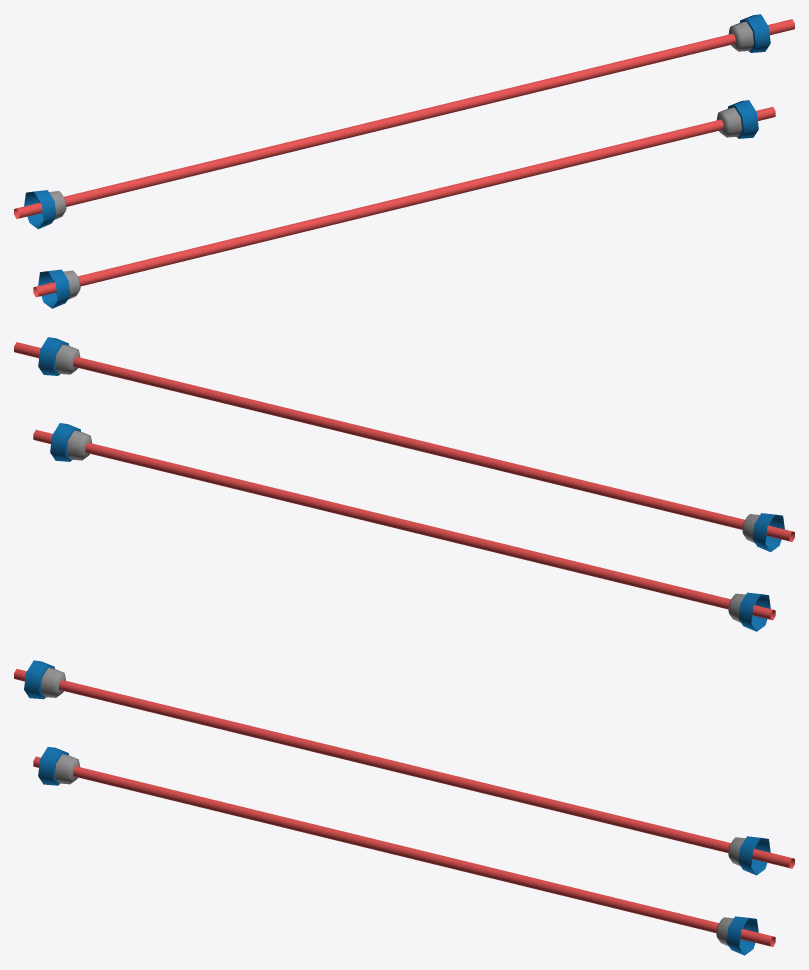
Rendered from Lasers.fbx.
3 renders of one model, top to bottom at view 1: azimuth 30°, elevation 25°; view 2: azimuth 150°, elevation 25°; view 3: azimuth 330°, elevation 25°, orthographic.
Parts seen in each view (by area): view 1: Lasers1, Lasers2; view 2: Lasers1, Lasers2; view 3: Lasers1, Lasers2.
Part boxes in pixels (x1,y1,x2,y2): Lasers1: (14, 14, 794, 229); Lasers2: (33, 100, 775, 308); Lasers1: (14, 337, 794, 552); Lasers2: (33, 423, 775, 631); Lasers1: (14, 660, 794, 875); Lasers2: (33, 747, 775, 955).
Size of the model in its own units: 856 by 124 by 37.41.
